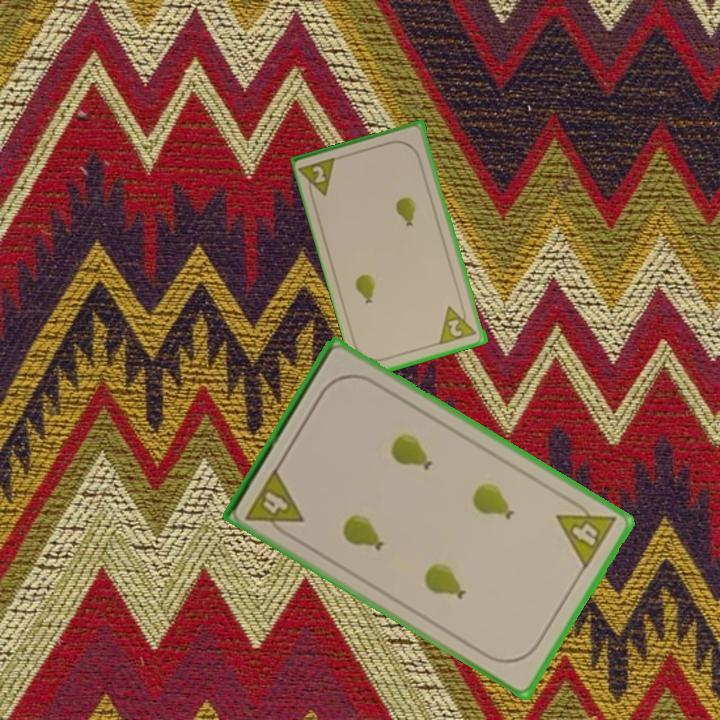2p: (437, 300, 480, 347), (309, 162, 329, 186)
4p: (553, 493, 619, 572), (242, 464, 307, 541)
